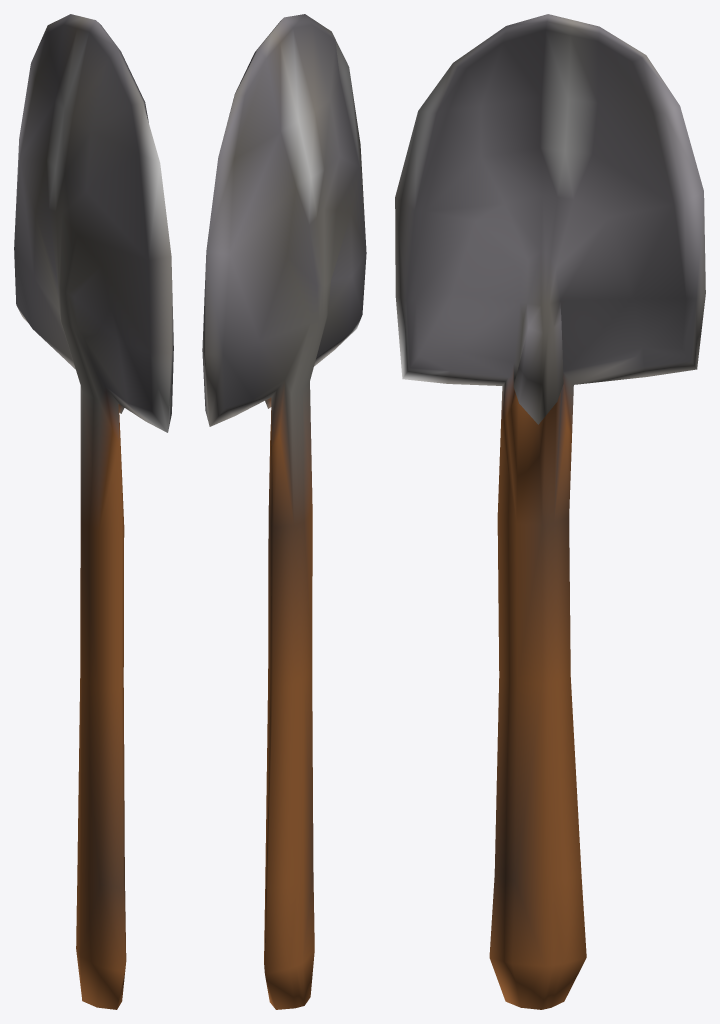
Rendered from SteelShovel.fbx.
3 views of the same model, side by side, from view 1: azimuth 30°, elevation 25°; view 2: azimuth 150°, elevation 25°; view 3: azimuth 270°, elevation 25° (orthographic).
Parts seen in each view (by area): view 1: Plane.011; view 2: Plane.011; view 3: Plane.011.
Boxes of the visible parts, x1=… form: Plane.011: x1=14, y1=14, x2=173, y2=1009; Plane.011: x1=202, y1=14, x2=366, y2=1009; Plane.011: x1=395, y1=14, x2=705, y2=1009.
Bounding box in the file's own units: 34.94 × 545 × 155.
